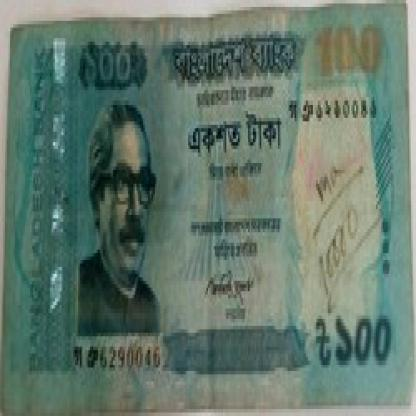one hundred taka: (338, 281, 401, 371), (61, 38, 152, 97), (311, 18, 386, 84)
